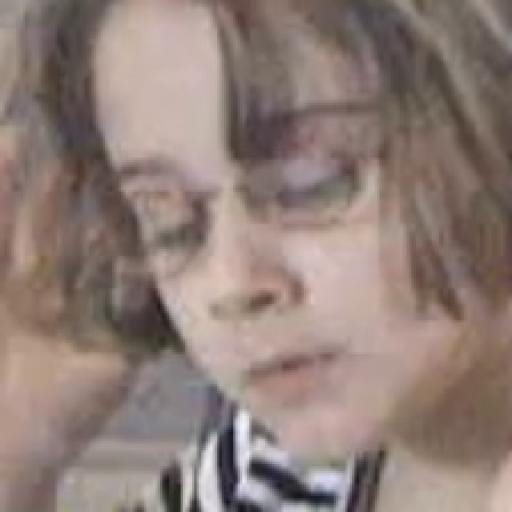Autism: (60, 0, 501, 461)
